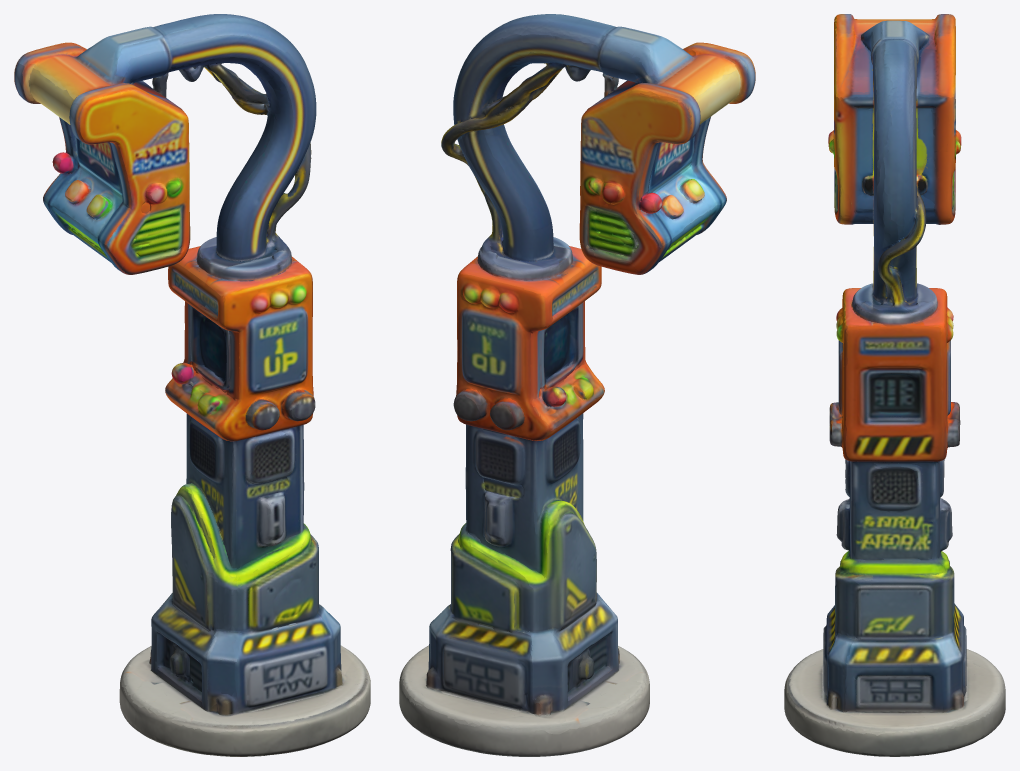
The model's file is u_prp_street_lamp.glb.
The picture shows the model from 3 angles, left to right: view 1: azimuth 30°, elevation 25°; view 2: azimuth 150°, elevation 25°; view 3: azimuth 270°, elevation 25°; orthographic projection. The views are drawn at different scales.
Parts seen in each view (by area): view 1: geometry_0; view 2: geometry_0; view 3: geometry_0.
Part boxes in pixels (left/top/right/bottom): geometry_0: left=14, top=14, right=370, bottom=756; geometry_0: left=399, top=14, right=755, bottom=756; geometry_0: left=784, top=14, right=1005, bottom=756.
Bounding box in the file's own units: 0.5556 × 1.2 × 0.3809.
Materials: 1 (1 with a texture image).
